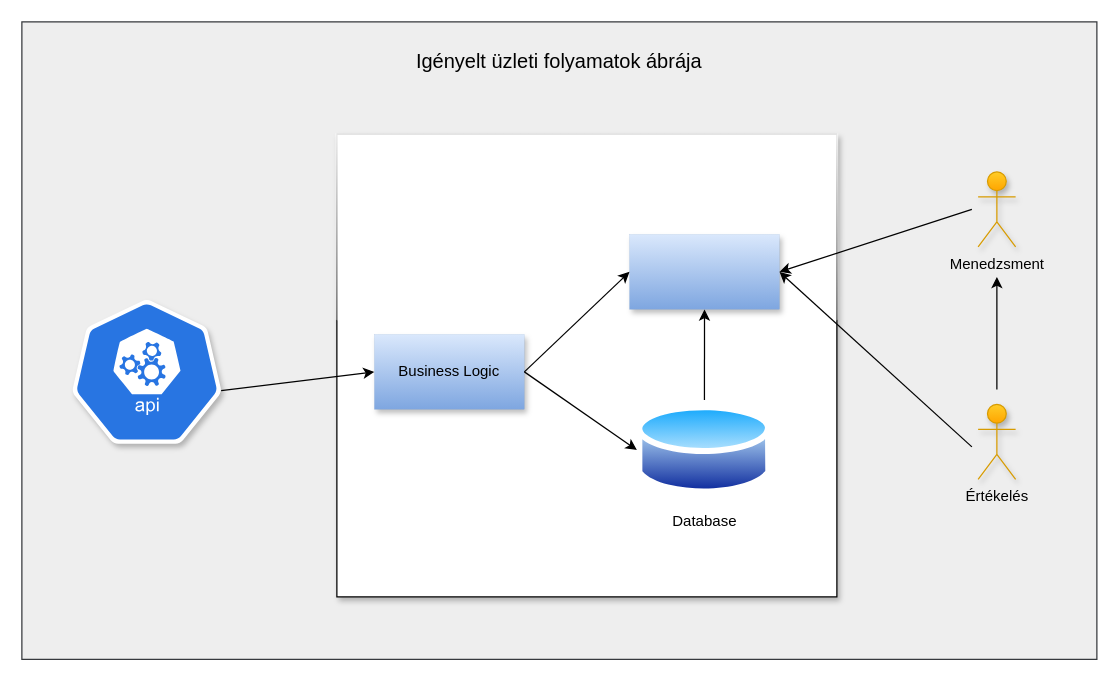
Some shapes in this 1119 by 681 pixel diagram are drawn without their labels. Here are the shapes that lost their labels. From the top down, the centre of each, then its label:
(705,273): GUI
(147,373): Financial Modelling Prep API
